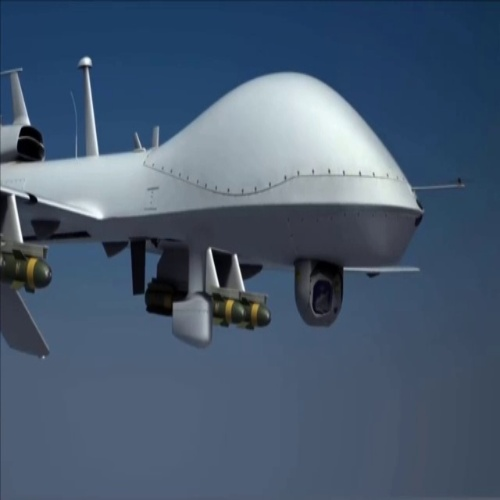uav: (2, 56, 468, 355)
